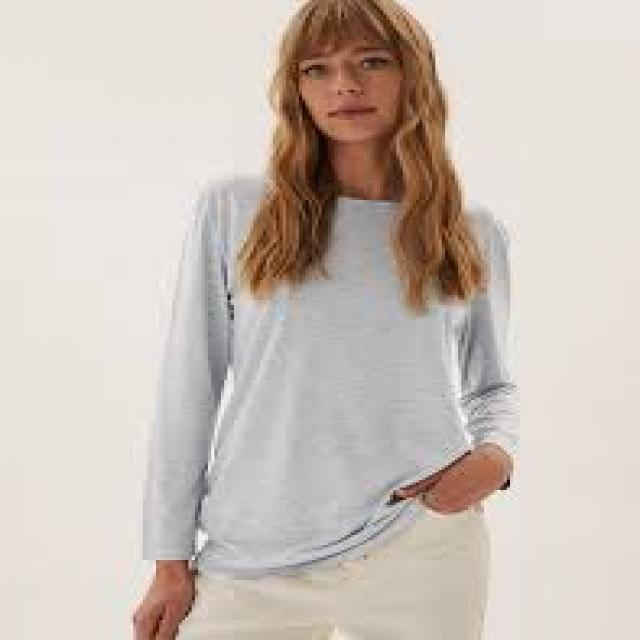plain: (137, 163, 528, 566)
